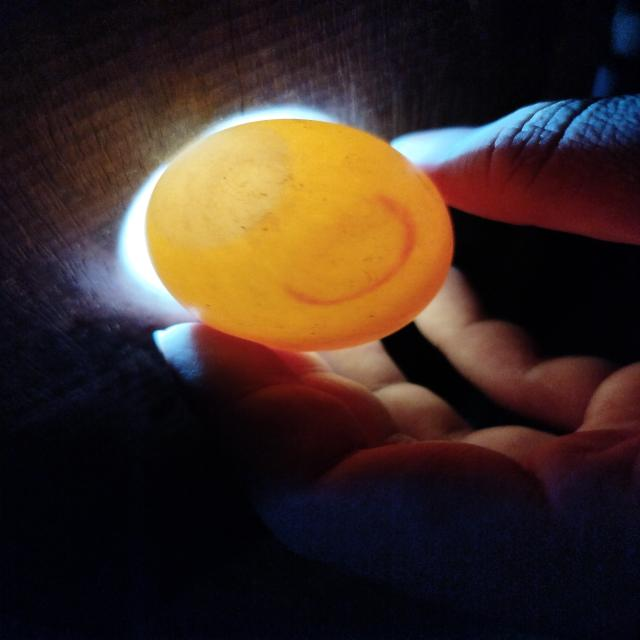Camara de Ar: (157, 126, 284, 245)
Gema Quebrada: (241, 224, 453, 352)
